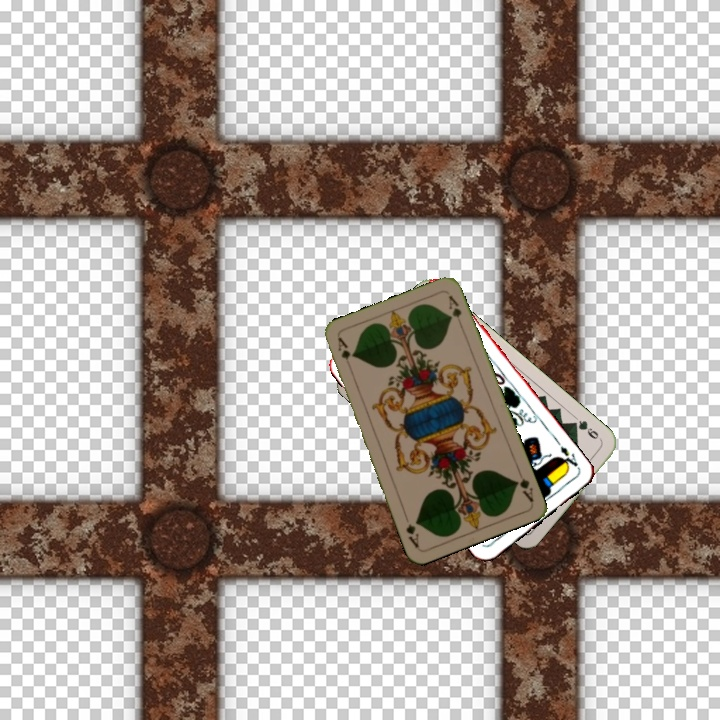EA: (554, 442, 582, 472)
G9: (567, 416, 604, 444)
GA: (511, 466, 536, 505), (334, 333, 353, 362)
